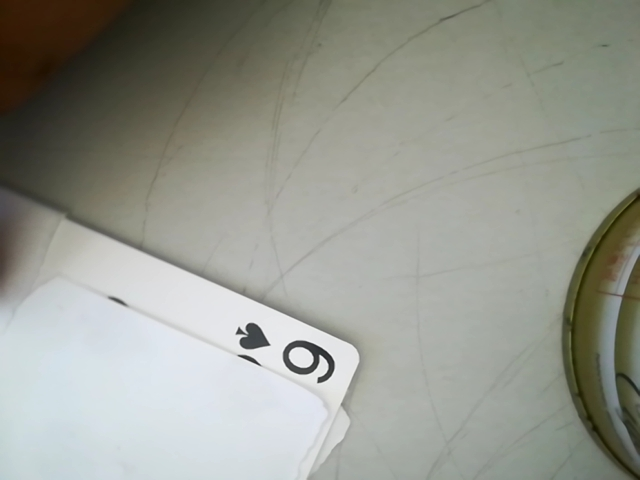ht 6: (217, 309, 355, 386)
